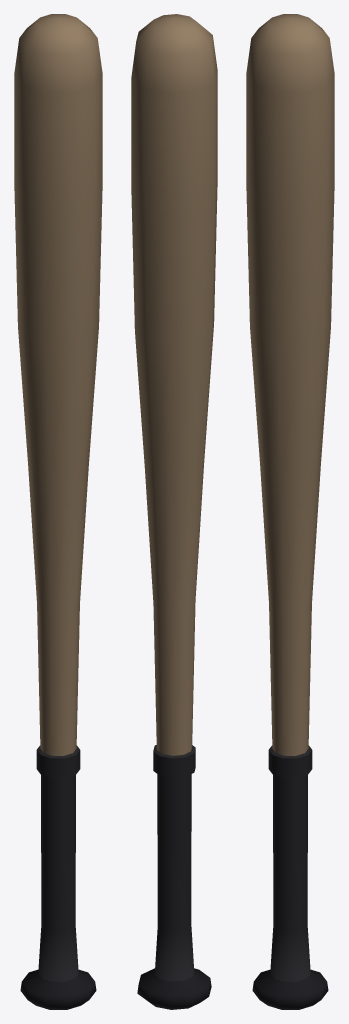
Rendered from bat.glb.
3 renders of one model, left to right at view 1: azimuth 90°, elevation 25°; view 2: azimuth 210°, elevation 25°; view 3: azimuth 270°, elevation 25°, orthographic.
Visible parts, largest first — view 1: Weapon; view 2: Weapon; view 3: Weapon.
Boxes of the visible parts, x1,y1,x2,y2 form: Weapon: [14, 14, 102, 1009]; Weapon: [131, 14, 217, 1009]; Weapon: [246, 14, 334, 1009].
Bounding box in the file's own units: 0.0666 × 0.854 × 0.07.
